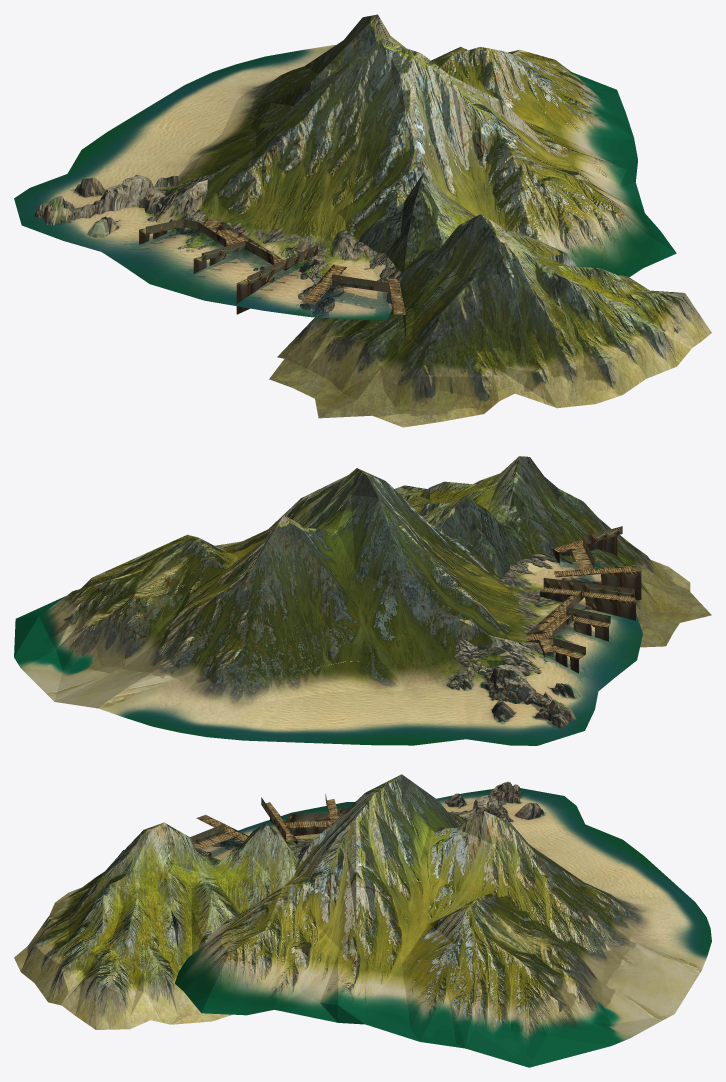
File: T_D_MountCoast_01.fbx
The picture shows the model from 3 angles, top to bottom: view 1: azimuth 30°, elevation 25°; view 2: azimuth 150°, elevation 25°; view 3: azimuth 270°, elevation 25°; orthographic projection. The views are drawn at different scales.
Visible parts, largest first — view 1: T_D_MountCoast_01, T_D_Mountain_02; view 2: T_D_MountCoast_01, T_D_Mountain_02; view 3: T_D_Mountain_02, T_D_MountCoast_01.
Part boxes in pixels (<box>): T_D_MountCoast_01: <box>14,45,711,427</box>; T_D_Mountain_02: <box>201,14,676,277</box>; T_D_MountCoast_01: <box>98,456,711,745</box>; T_D_Mountain_02: <box>14,468,515,708</box>; T_D_Mountain_02: <box>175,774,701,1067</box>; T_D_MountCoast_01: <box>14,781,711,1029</box>.
Size of the model in its own units: 85.8 by 28.7 by 95.84.
